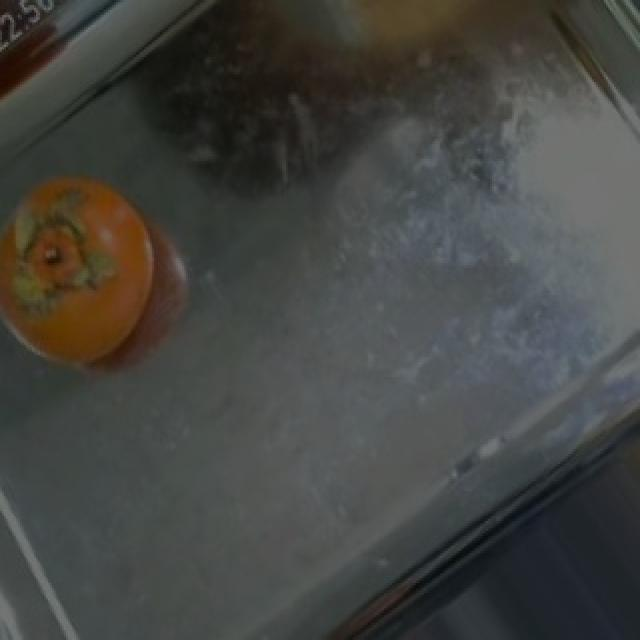Fruit: (2, 149, 176, 394)
